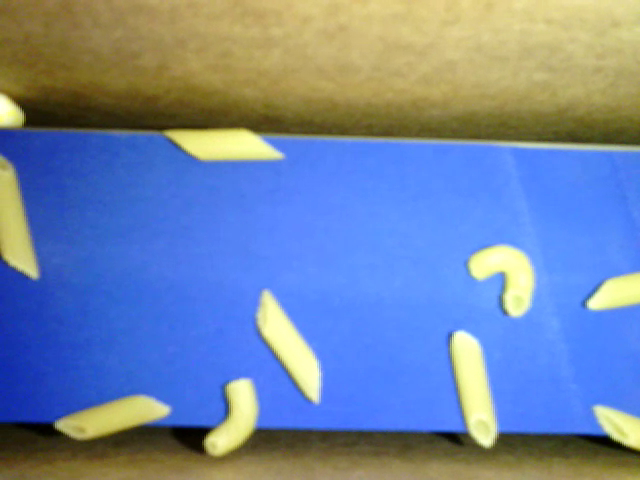elbow: (464, 243, 534, 315), (203, 379, 259, 458)
penne: (254, 287, 321, 404), (450, 329, 498, 447), (52, 394, 171, 439), (1, 153, 40, 280), (163, 128, 285, 161), (590, 404, 639, 450), (585, 273, 639, 311)
